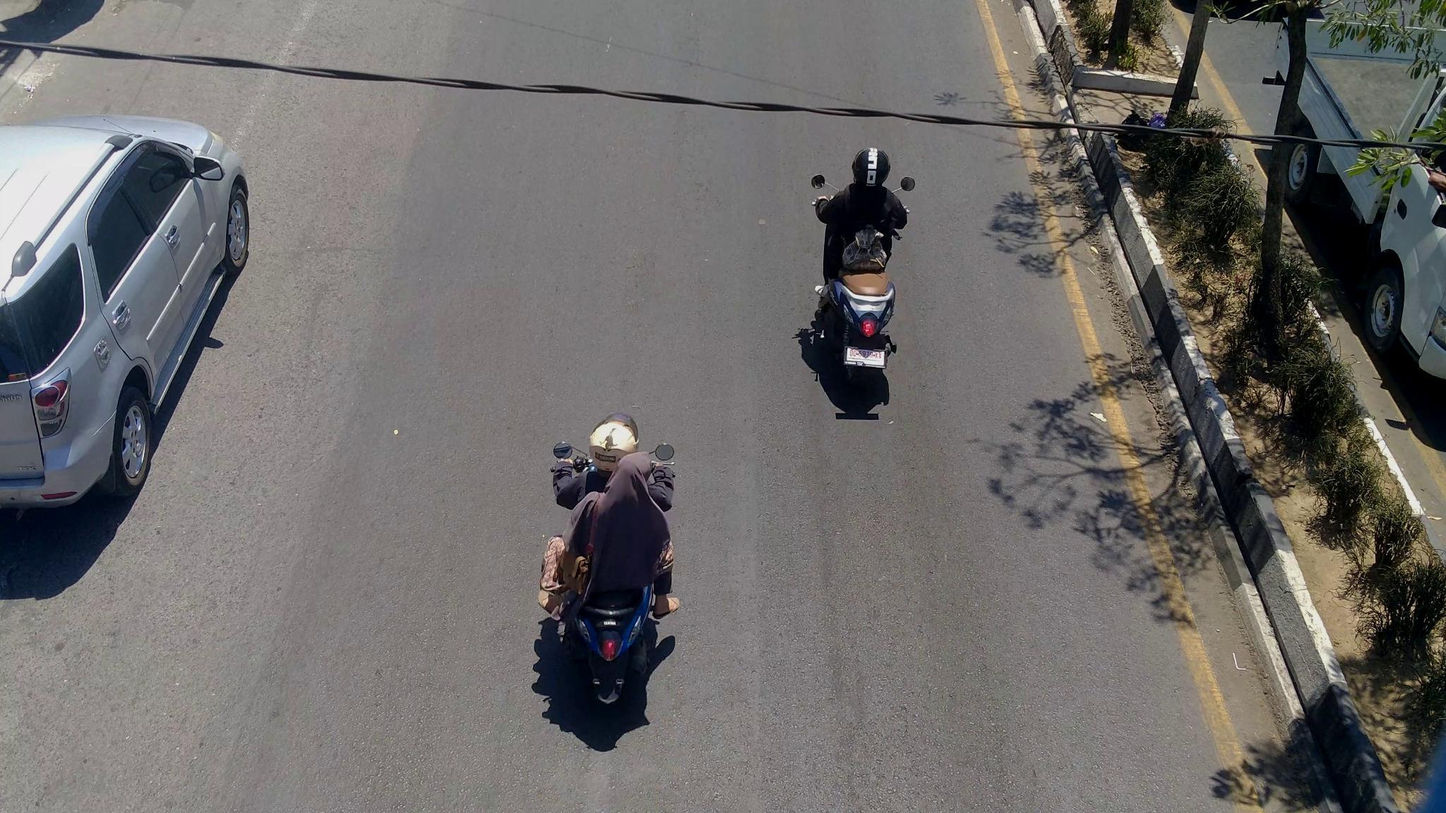Helmet: (584, 408, 642, 474), (845, 140, 895, 198)
bike: (544, 436, 676, 707), (810, 166, 916, 388)
no-helmet: (607, 445, 659, 506)
number-plate: (843, 345, 887, 368)
rider: (538, 445, 683, 622), (810, 142, 911, 286), (549, 413, 676, 512)
